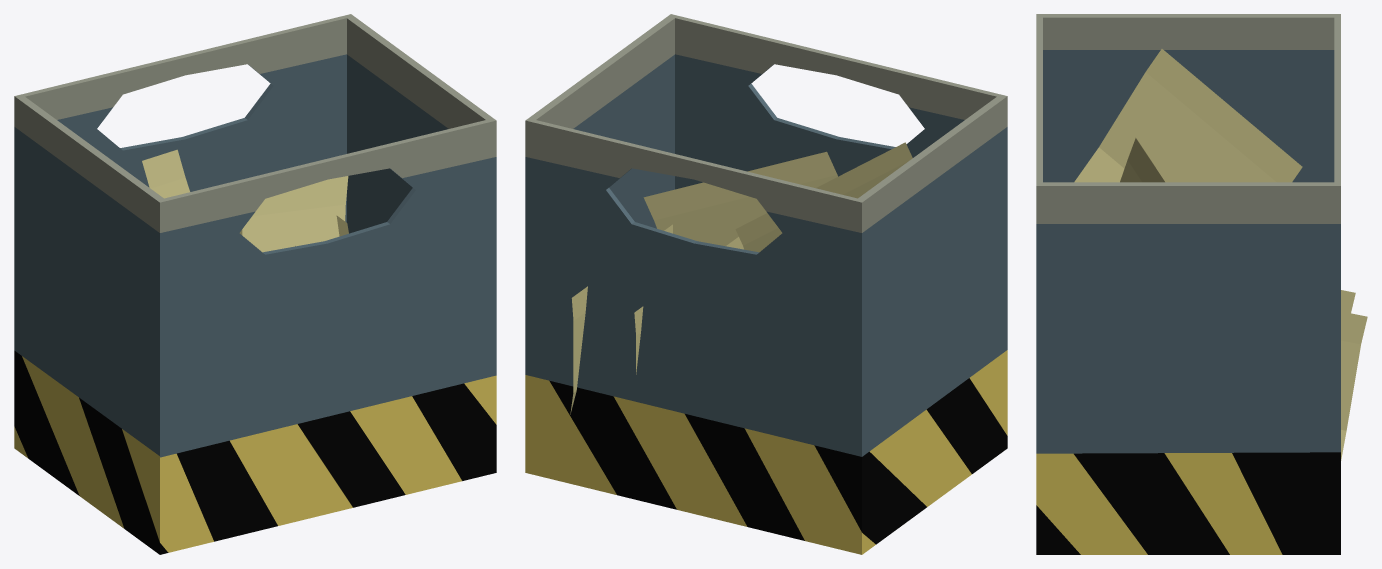
File: corobka.glb
3 views of the same model, side by side, from view 1: azimuth 30°, elevation 25°; view 2: azimuth 150°, elevation 25°; view 3: azimuth 270°, elevation 25° (orthographic). The views are drawn at different scales.
Visible parts, largest first — view 1: Cube.028, Plane.008, Plane.009; view 2: Cube.028, Plane.008, Plane.009, Plane.004; view 3: Cube.028, Plane.009, Plane.004, Plane.008.
Boxes of the visible parts, x1=… form: Cube.028: x1=14, y1=14, x2=496, y2=554; Plane.008: x1=242, y1=176, x2=348, y2=252; Plane.009: x1=142, y1=149, x2=189, y2=198; Cube.028: x1=525, y1=14, x2=1007, y2=554; Plane.008: x1=643, y1=151, x2=837, y2=246; Plane.009: x1=735, y1=142, x2=912, y2=252; Plane.004: x1=570, y1=224, x2=672, y2=414; Cube.028: x1=1036, y1=14, x2=1340, y2=554; Plane.009: x1=1074, y1=49, x2=1302, y2=182; Plane.004: x1=1341, y1=311, x2=1367, y2=460; Plane.008: x1=1120, y1=138, x2=1164, y2=182.
Bounding box in the file's own units: 0.5421 × 0.5706 × 0.4414.
